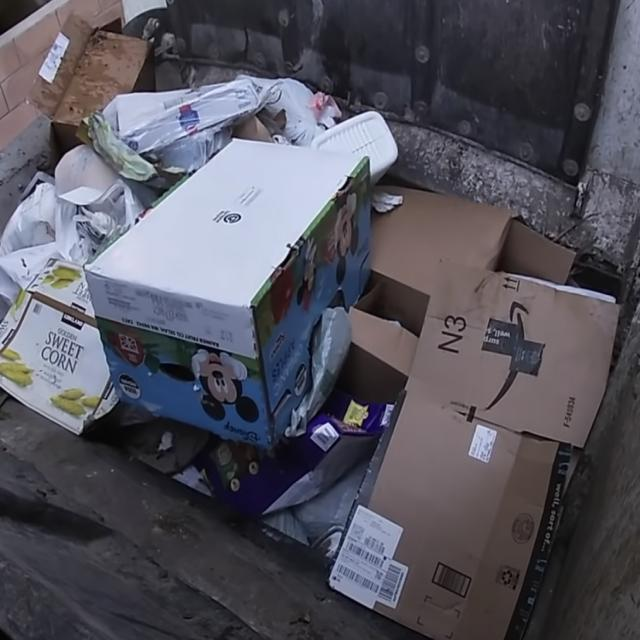bag: (91, 71, 290, 160)
cardboard: (345, 151, 623, 632), (78, 111, 391, 455), (0, 233, 130, 449), (27, 19, 164, 142)
plastic: (305, 106, 406, 176)
